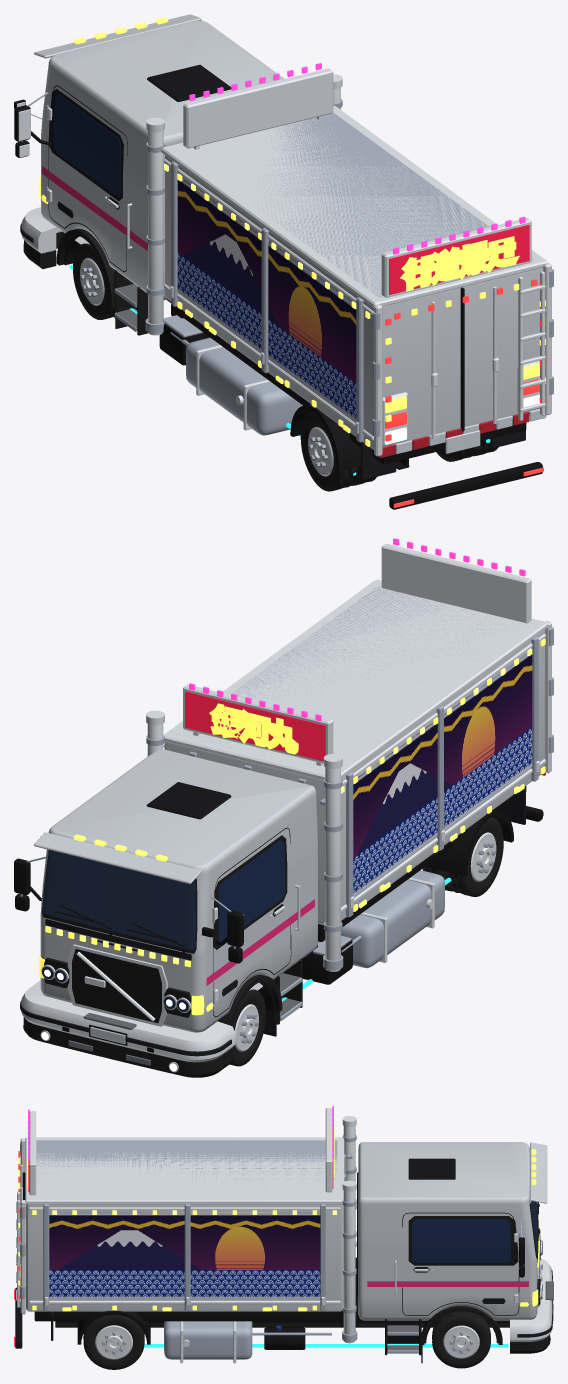
The model's file is dekotora_truck_leve_classica.glb.
3 renders of one model, top to bottom at view 1: azimuth 30°, elevation 25°; view 2: azimuth 150°, elevation 25°; view 3: azimuth 270°, elevation 25°, orthographic. The views are drawn at different scales.
Parts seen in each view (by area): view 1: truck_chrome, truck_paint_white_panel, truck_steel, truck_mural, truck_plastic_black, truck_lamp_amber, truck_glass, truck_plastic_trim, wheel_r_L_1.5_1.06, wheel_f_L, truck_andon_panel, truck_paint_white (+5 smaller); view 2: truck_chrome, truck_paint_white_panel, truck_mural, truck_steel, truck_glass_wind, truck_plastic_black, truck_plastic_trim, truck_grille_honeycomb, truck_lamp_amber, truck_glass, truck_andon_panel, wheel_r_L_1.5_1.06 (+6 smaller); view 3: truck_paint_white_panel, truck_chrome, truck_mural, truck_steel, truck_plastic_black, truck_glass, wheel_f_R, wheel_r_R_1.5_1.06, truck_plastic_trim, truck_lamp_amber, truck_paint_pink, truck_diamond (+2 smaller).
Boxes of the visible parts, bbox=[...] form: truck_chrome: bbox=[17, 68, 551, 456]; truck_paint_white_panel: bbox=[34, 14, 543, 449]; truck_steel: bbox=[21, 92, 553, 442]; truck_mural: bbox=[177, 179, 356, 421]; truck_plastic_black: bbox=[14, 64, 542, 509]; truck_lamp_amber: bbox=[39, 17, 545, 446]; truck_glass: bbox=[53, 94, 120, 196]; truck_plastic_trim: bbox=[23, 89, 147, 335]; wheel_r_L_1.5_1.06: bbox=[300, 411, 358, 491]; wheel_f_L: bbox=[73, 243, 114, 319]; truck_andon_panel: bbox=[389, 225, 529, 294]; truck_paint_white: bbox=[395, 409, 546, 453]; truck_chrome: bbox=[21, 543, 551, 1072]; truck_paint_white_panel: bbox=[34, 630, 544, 1032]; truck_mural: bbox=[353, 654, 532, 896]; truck_steel: bbox=[20, 585, 553, 1021]; truck_glass_wind: bbox=[42, 850, 195, 949]; truck_plastic_black: bbox=[14, 782, 542, 1052]; truck_plastic_trim: bbox=[23, 835, 302, 1077]; truck_grille_honeycomb: bbox=[72, 949, 161, 1023]; truck_lamp_amber: bbox=[39, 638, 545, 1015]; truck_glass: bbox=[42, 840, 285, 1011]; truck_andon_panel: bbox=[185, 691, 325, 761]; wheel_r_L_1.5_1.06: bbox=[445, 817, 503, 896]; truck_paint_white_panel: bbox=[26, 1142, 547, 1320]; truck_chrome: bbox=[16, 1108, 552, 1363]; truck_mural: bbox=[49, 1212, 320, 1299]; truck_steel: bbox=[20, 1134, 523, 1359]; truck_plastic_black: bbox=[15, 1158, 553, 1349]; truck_glass: bbox=[412, 1219, 542, 1298]; wheel_f_R: bbox=[432, 1311, 490, 1368]; wheel_r_R_1.5_1.06: bbox=[83, 1315, 144, 1369]; truck_plastic_trim: bbox=[385, 1203, 550, 1355]; truck_lamp_amber: bbox=[18, 1123, 539, 1311]; truck_paint_pink: bbox=[367, 1281, 528, 1286]; truck_diamond: bbox=[387, 1281, 553, 1350].
Bounding box in the file's own units: 3.33 × 3.95 × 9.17.
Materials: 25 (9 with a texture image).
